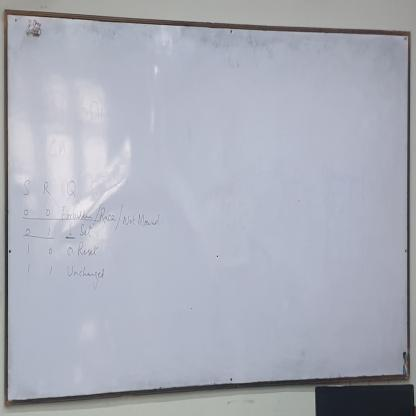Handwritten text: (22, 174, 78, 206), (66, 263, 111, 293), (123, 206, 163, 236), (61, 201, 93, 226), (98, 205, 119, 230), (76, 240, 97, 263), (77, 222, 95, 242)
Whiteboard: (5, 10, 409, 402)
